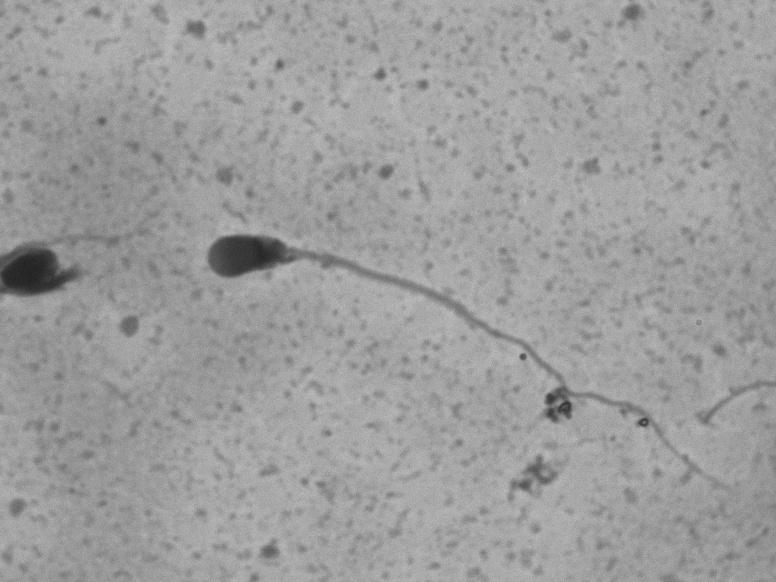Abnormal: (194, 222, 743, 497)
